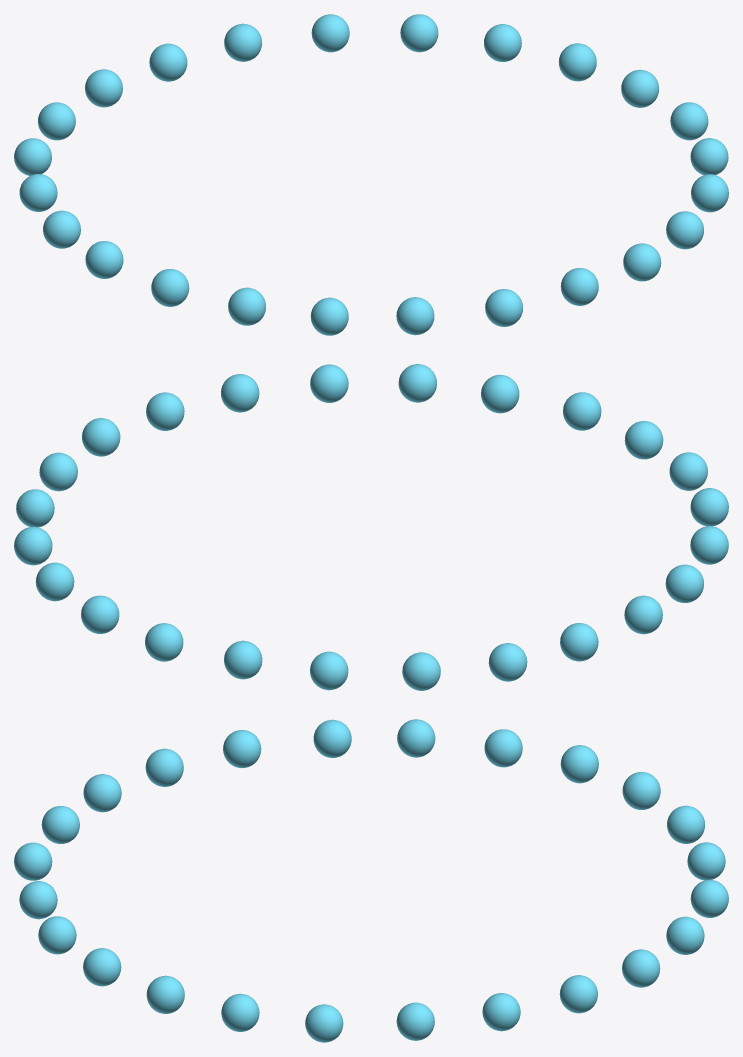
3 renders of one model, top to bottom at view 1: azimuth 30°, elevation 25°; view 2: azimuth 150°, elevation 25°; view 3: azimuth 270°, elevation 25°, orthographic.
Visible parts, largest first — view 1: Sphere049; view 2: Sphere049; view 3: Sphere049.
Boxes of the visible parts, <box> form: Sphere049: <box>14,14,728,335</box>; Sphere049: <box>14,364,728,690</box>; Sphere049: <box>14,719,728,1042</box>.
Size of the model in its own units: 153 by 8.22 by 153.
